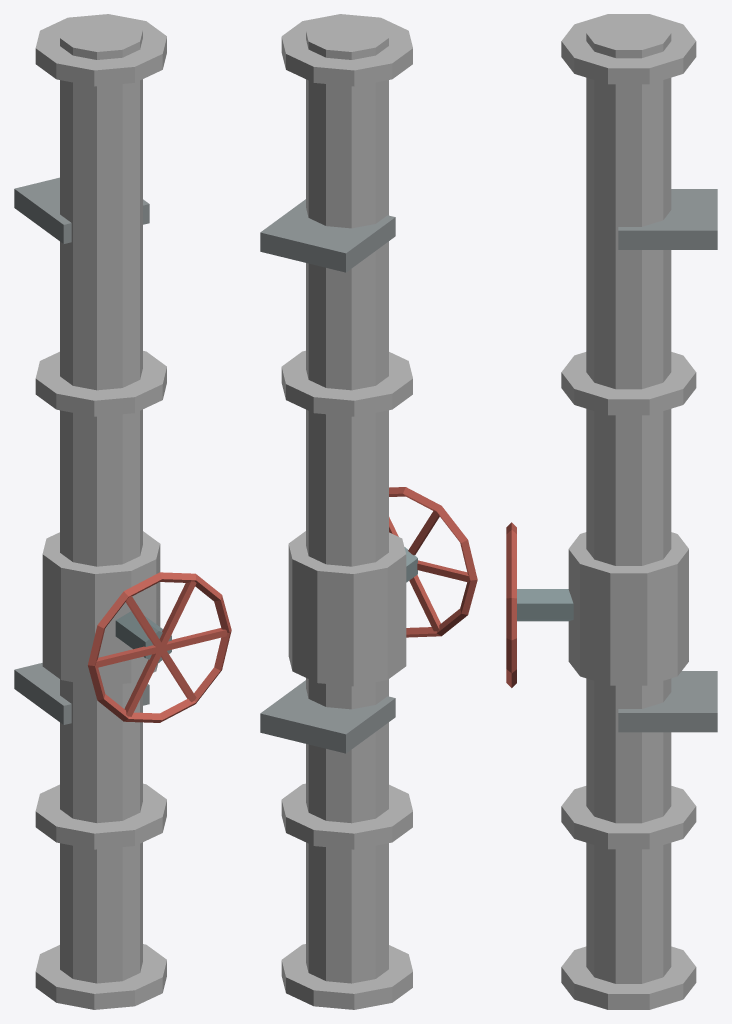
File: furn_riser_pipe.fbx
3 views of the same model, side by side, from view 1: azimuth 30°, elevation 25°; view 2: azimuth 150°, elevation 25°; view 3: azimuth 270°, elevation 25° (orthographic).
Parts seen in each view (by area): view 1: furn_riser_pipe; view 2: furn_riser_pipe; view 3: furn_riser_pipe.
Part boxes in pixels (x1,y1,x2,y2): furn_riser_pipe: (14,14,231,1009); furn_riser_pipe: (260,14,477,1009); furn_riser_pipe: (506,14,717,1009).
Bounding box in the file's own units: 0.47 × 2.98 × 0.595.
